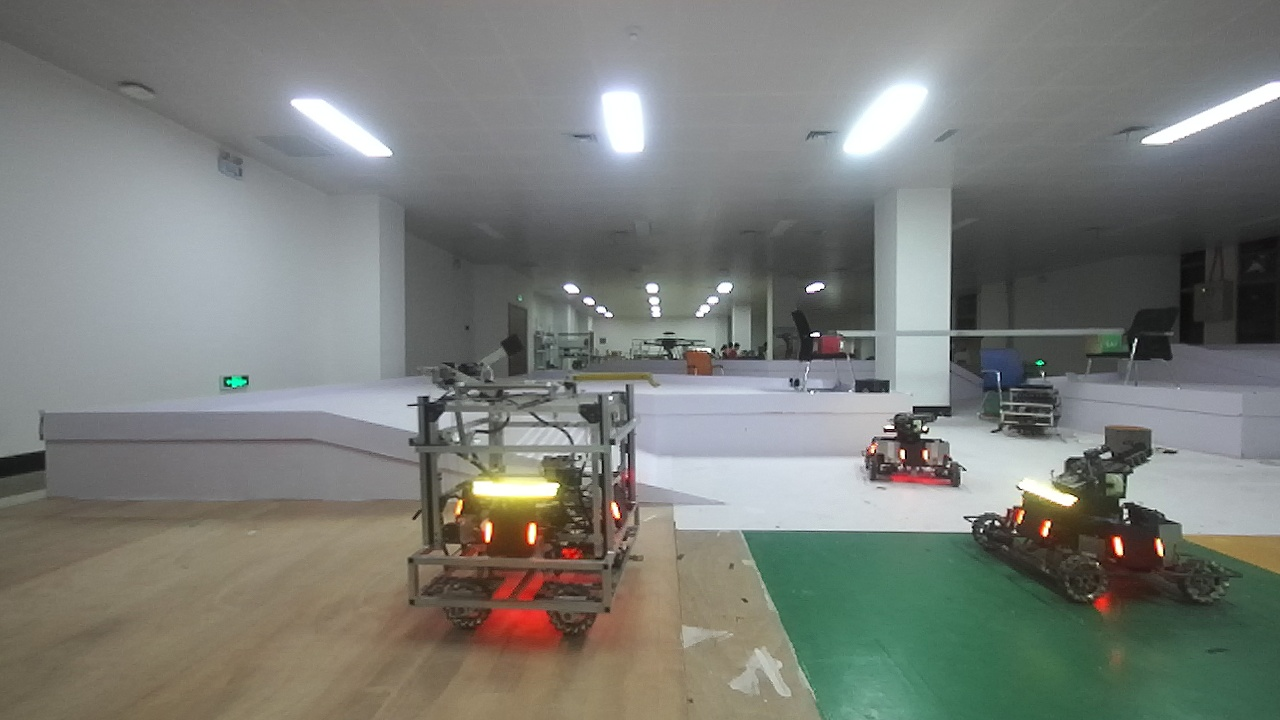car: (389, 360, 648, 634), (965, 424, 1236, 610), (851, 411, 971, 496)
